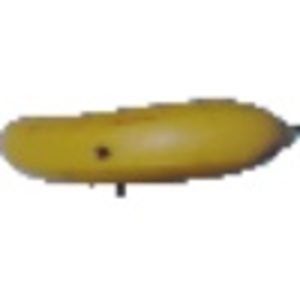banana: (3, 95, 297, 195)
